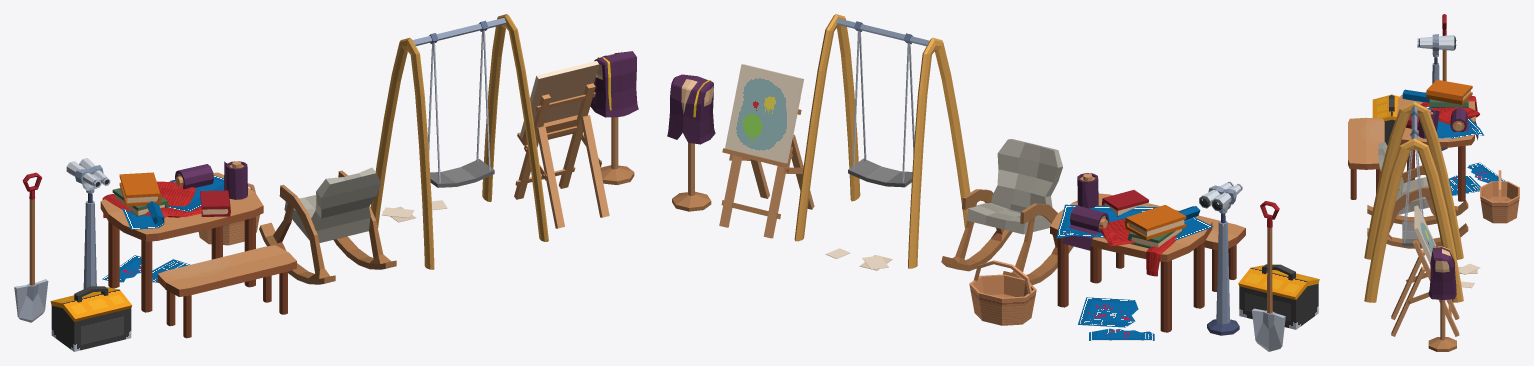
Rendered from W.environment_model 1.gltf.
3 renders of one model, left to right at view 1: azimuth 30°, elevation 25°; view 2: azimuth 150°, elevation 25°; view 3: azimuth 270°, elevation 25°, orthographic. The views are drawn at different scales.
Parts seen in each view (by area): view 1: group4, group3, group6, group, group2, cylinder (×5), cuboid (×2), group13, group7, group12, group14, group15 (+1 smaller); view 2: group4, group6, group3, cylinder (×5), cuboid (×2), group, group13, group7, group14, group12, group2, group15 (+1 smaller); view 3: group4, cylinder (×5), cuboid (×2), group3, group6, group2, group, group7, group13, group14, group15, group12 (+1 smaller).
Part boxes in pixels (box(x1,y1,x2,y2)): group4: box(370, 14, 548, 269); group3: box(259, 167, 396, 284); group6: box(514, 61, 609, 228); group: box(100, 172, 263, 312); group2: box(157, 245, 296, 338); cylinder (×5): box(66, 158, 259, 288); cuboid (×2): box(102, 51, 638, 217); group13: box(50, 286, 132, 351); group7: box(112, 172, 230, 216); group12: box(14, 172, 48, 322); group14: box(102, 255, 190, 282); group15: box(168, 175, 223, 211); group4: box(794, 14, 974, 268); group6: box(719, 64, 814, 238); group3: box(941, 139, 1073, 285); cylinder (×5): box(969, 173, 1242, 335); cuboid (×2): box(667, 74, 1176, 276); group: box(1050, 193, 1212, 332); group13: box(1238, 264, 1319, 329); group7: box(1102, 190, 1186, 248); group14: box(1078, 297, 1154, 340); group12: box(1252, 201, 1285, 351); group2: box(1116, 210, 1245, 291); group15: box(1056, 204, 1157, 238); group4: box(1364, 102, 1463, 302); cylinder (×5): box(1402, 34, 1519, 223); cuboid (×2): box(1420, 95, 1479, 351); group3: box(1367, 142, 1468, 248); group6: box(1391, 205, 1459, 336); group2: box(1348, 117, 1384, 199); group: box(1396, 92, 1475, 201); group7: box(1406, 79, 1472, 130); group13: box(1372, 94, 1400, 145); group14: box(1448, 162, 1505, 195); group15: box(1425, 106, 1484, 138); group12: box(1442, 14, 1446, 81).
Bounding box in the file's own units: 10.8 × 3.59 × 3.38.
Materials: 12 (12 with a texture image).
